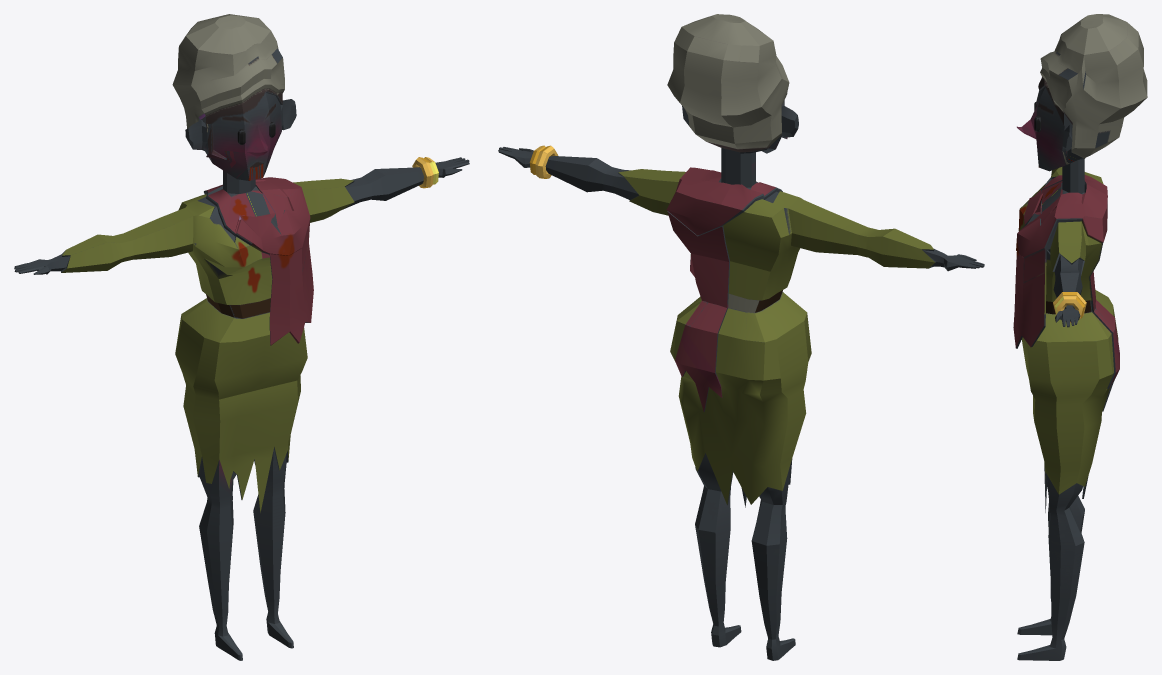
Rendered from dengue fieber_w.fbx.
The picture shows the model from 3 angles, left to right: view 1: azimuth 30°, elevation 25°; view 2: azimuth 150°, elevation 25°; view 3: azimuth 270°, elevation 25°; orthographic projection. The views are drawn at different scales.
Visible parts, largest first — view 1: Symmetry_1; view 2: Symmetry_1; view 3: Symmetry_1, Torus.
Part boxes in pixels (x1,y1,x2,y2): Symmetry_1: (14, 14, 469, 660); Symmetry_1: (498, 14, 984, 660); Symmetry_1: (1013, 14, 1147, 660); Torus: (1054, 296, 1084, 323).
Size of the model in its own units: 310 by 397 by 77.05.
1 material, 1 textured.
